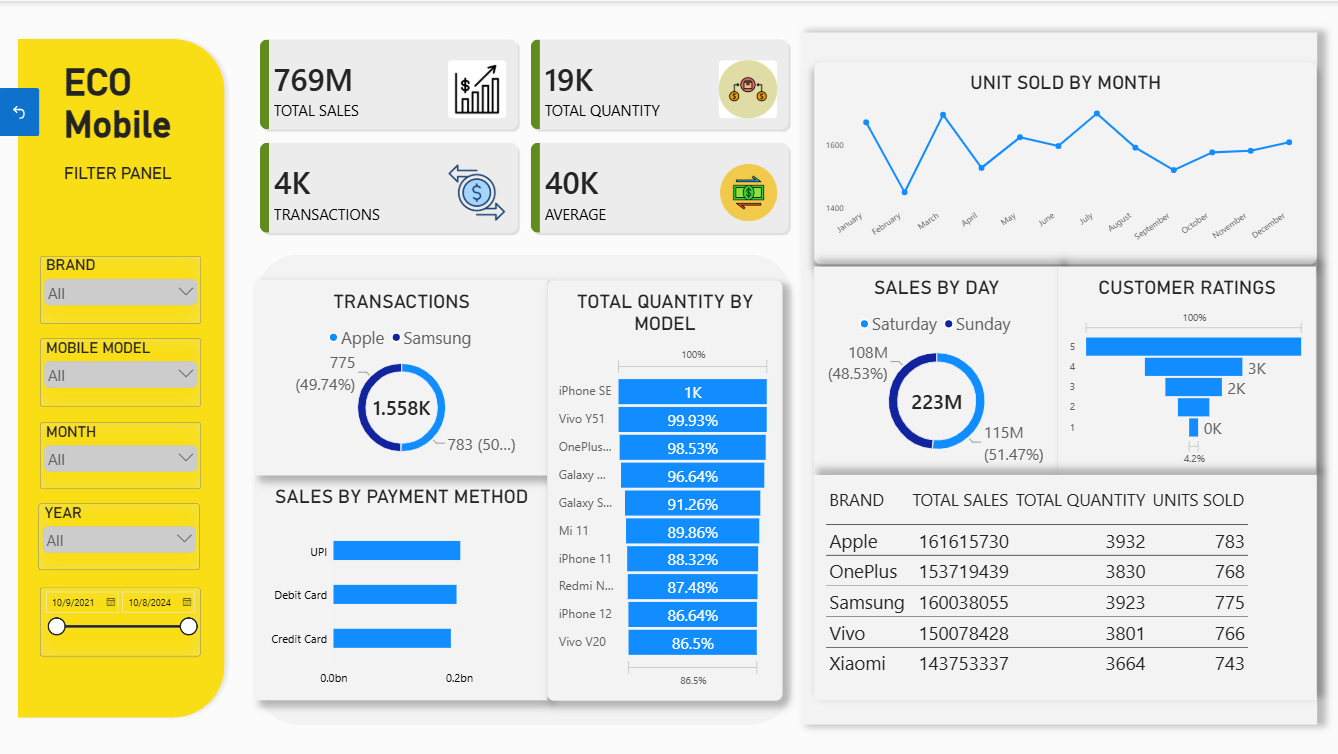

Layout of this report page (visuals, bound fields, positions):
{"tool":"powerbi","page":{"name":"Page 2","canvas":[1920,1080],"ordinal":1},"visuals":[{"type":"shape","box":[19,45.2,314.3,990.5],"z":0},{"type":"shape","title":"ECO  Mobile","box":[94.3,85.7,245.2,161.9],"z":1000},{"type":"shape","title":"FILTER PANEL","box":[95.4,231.7,197.6,57.1],"z":2000},{"type":"slicer","fields":{"Values":["Sales_Data.Brand"]},"box":[59.5,364.3,231,97.6],"z":3000},{"type":"slicer","fields":{"Values":["Sales_Data.Mobile Model"]},"box":[59.5,484,231,97.6],"z":4000},{"type":"slicer","fields":{"Values":["Sales_Data.Date.Variation.Date Hierarchy.Month"]},"box":[59.5,604,231,95.2],"z":5000},{"type":"cardVisual","fields":{"Data":["Sales_Data.Total_Sales","Sales_Data.Total_Quantity","Sales_Data.Transactions","Sales_Data.Average"]},"box":[368.6,48.6,768.6,288.6],"z":6000},{"type":"shape","box":[368.6,362.9,768.6,674.3],"z":7000},{"type":"clusteredBarChart","title":"SALES BY PAYMENT METHOD","fields":{"Category":["Sales_Data.Payment Method"],"Y":["Sales_Data.Total_Sales"]},"box":[368.6,680,417.1,322.9],"z":8000},{"type":"donutChart","title":"TRANSACTIONS","fields":{"Category":["Sales_Data.Brand"],"Y":["CountNonNull(Sales_Data.Transaction ID)"]},"box":[368.6,400,417.1,280],"z":9000},{"type":"funnel","title":"TOTAL QUANTITY BY MODEL","fields":{"Category":["Sales_Data.Mobile Model"],"Y":["Sales_Data.Total_Quantity"]},"box":[785.7,400,337.1,602.9],"z":10000},{"type":"shape","box":[1148.6,45.7,740,991.4],"z":11000},{"type":"lineChart","title":"UNIT SOLD BY MONTH","fields":{"Category":["Sales_Data.Date.Variation.Date Hierarchy.Month","Sales_Data.Date.Variation.Date Hierarchy.Day"],"Y":["Sum(Sales_Data.Units Sold)"]},"box":[1168.6,85.7,720,291.4],"z":12000},{"type":"donutChart","title":"SALES BY DAY","fields":{"Category":["Sales_Data.Day Name"],"Y":["Sales_Data.Total_Sales"]},"box":[1168.6,380,351.4,300],"z":13000},{"type":"funnel","title":"CUSTOMER RATINGS","fields":{"Category":["Sales_Data.Customer Ratings"],"Y":["Sum(Sales_Data.Customer Ratings)"]},"box":[1520,380,368.6,300],"z":14000},{"type":"tableEx","fields":{"Values":["Sales_Data.Brand","Sales_Data.Total_Sales","Sales_Data.Total_Quantity","CountNonNull(Sales_Data.Units Sold)"]},"box":[1168.6,680,720,322.9],"z":15000},{"type":"slicer","fields":{"Values":["Sales_Data.Date.Variation.Date Hierarchy.Year"]},"box":[59.1,720,231,95.2],"z":16000},{"type":"slicer","fields":{"Values":["Sales_Data.Date"]},"box":[60.2,840.1,229.9,98.8],"z":17000},{"type":"actionButton","box":[0,124.1,59.6,69.2],"z":18000}]}

Visuals, with their boxes in screenshot pixels (x1, y1, x2, y2), scaled from the page's 1920x1080 canvas onto the 1338x754 screenshot:
shape: [13, 32, 232, 723]
"ECO  Mobile" shape: [66, 60, 237, 173]
"FILTER PANEL" shape: [66, 162, 204, 202]
slicer - Sales_Data.Brand: [41, 254, 202, 322]
slicer - Sales_Data.Mobile Model: [41, 338, 202, 406]
slicer - Sales_Data.Date.Variation.Date Hierarchy.Month: [41, 422, 202, 488]
cardVisual - Sales_Data.Total_Sales x Sales_Data.Total_Quantity: [257, 34, 792, 235]
shape: [257, 253, 792, 724]
"SALES BY PAYMENT METHOD" clusteredBarChart: [257, 475, 548, 700]
"TRANSACTIONS" donutChart: [257, 279, 548, 475]
"TOTAL QUANTITY BY MODEL" funnel: [548, 279, 782, 700]
shape: [800, 32, 1316, 724]
"UNIT SOLD BY MONTH" lineChart: [814, 60, 1316, 263]
"SALES BY DAY" donutChart: [814, 265, 1059, 475]
"CUSTOMER RATINGS" funnel: [1059, 265, 1316, 475]
tableEx - Sales_Data.Brand x Sales_Data.Total_Sales: [814, 475, 1316, 700]
slicer - Sales_Data.Date.Variation.Date Hierarchy.Year: [41, 503, 202, 569]
slicer - Sales_Data.Date: [42, 587, 202, 655]
actionButton: [0, 87, 42, 135]
